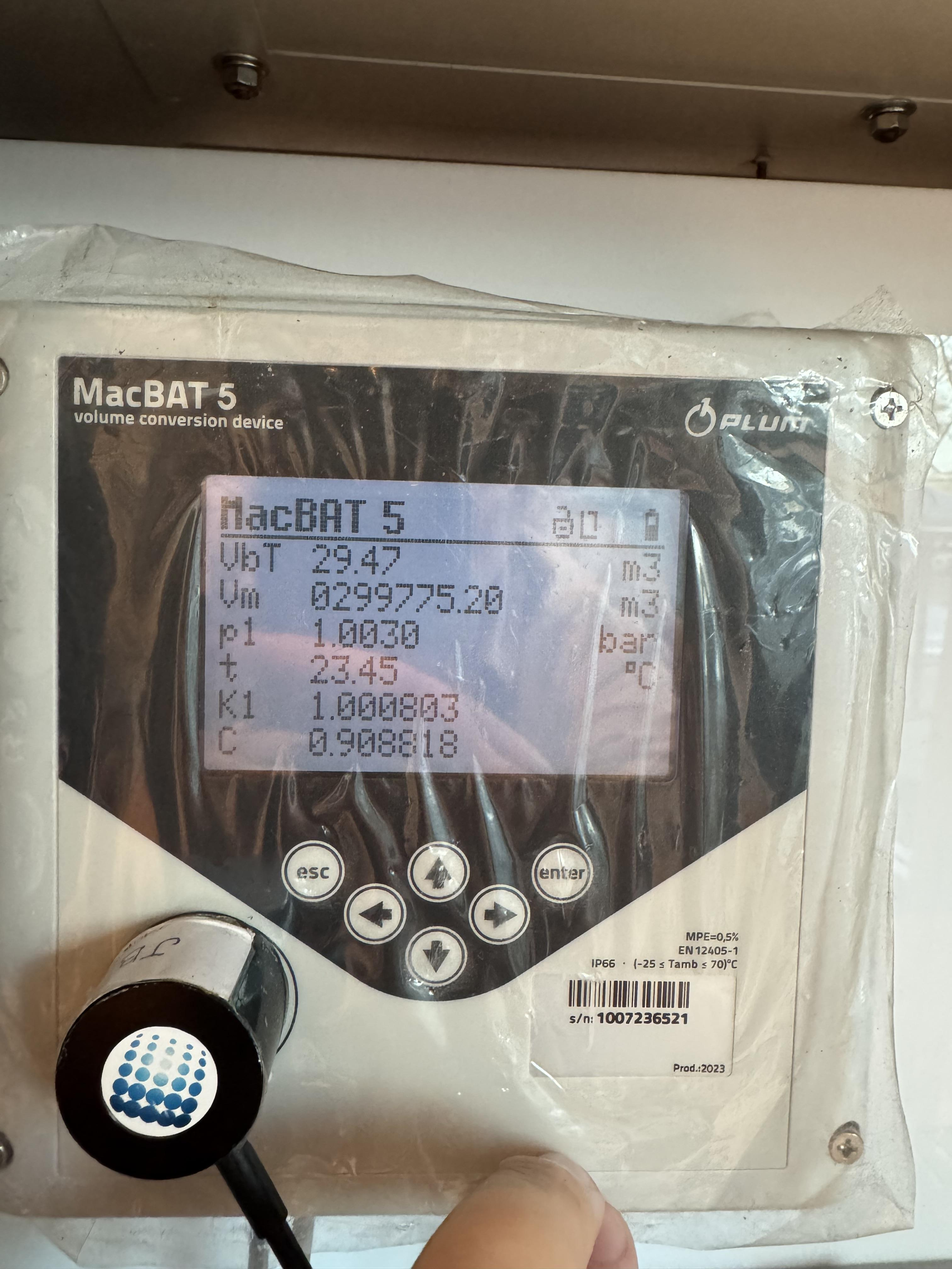digital_screen: (199, 476, 687, 780)
